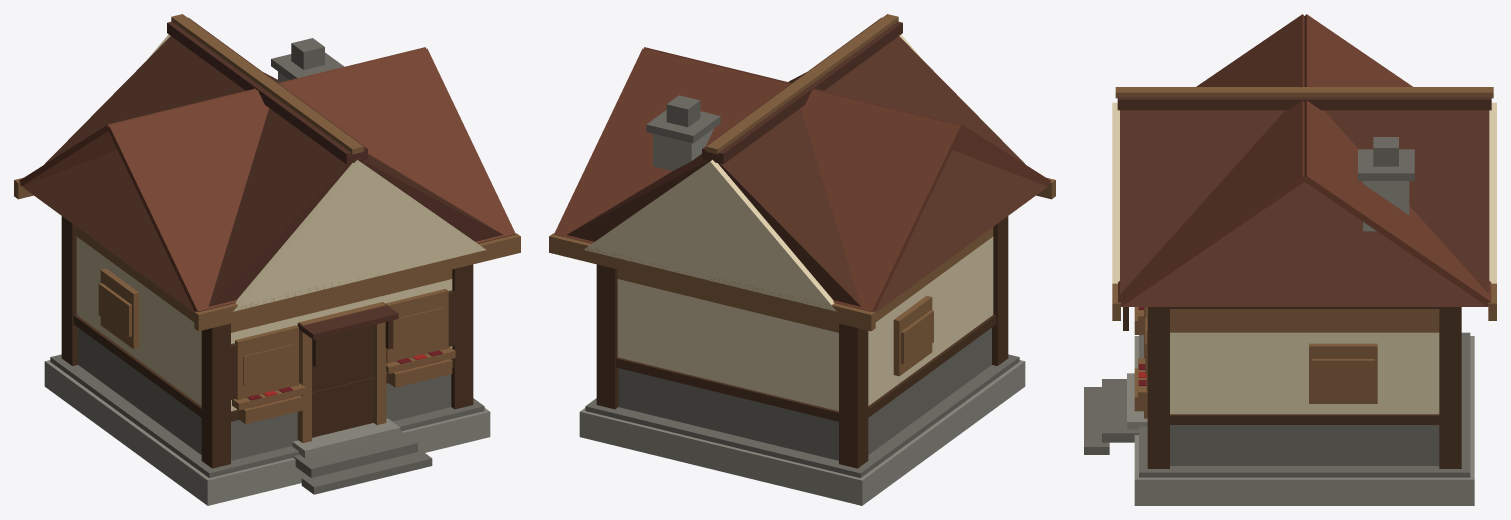
Rendered from house_hd.glb.
3 views of the same model, side by side, from view 1: azimuth 30°, elevation 25°; view 2: azimuth 150°, elevation 25°; view 3: azimuth 270°, elevation 25° (orthographic). The views are drawn at different scales.
Parts seen in each view (by area): view 1: house_hd; view 2: house_hd; view 3: house_hd.
Boxes of the visible parts, left/top/right/bottom form: house_hd: left=14, top=14, right=520, bottom=505; house_hd: left=549, top=14, right=1055, bottom=505; house_hd: left=1084, top=14, right=1496, bottom=505.
Bounding box in the file's own units: 4.52 × 4.42 × 4.81.
